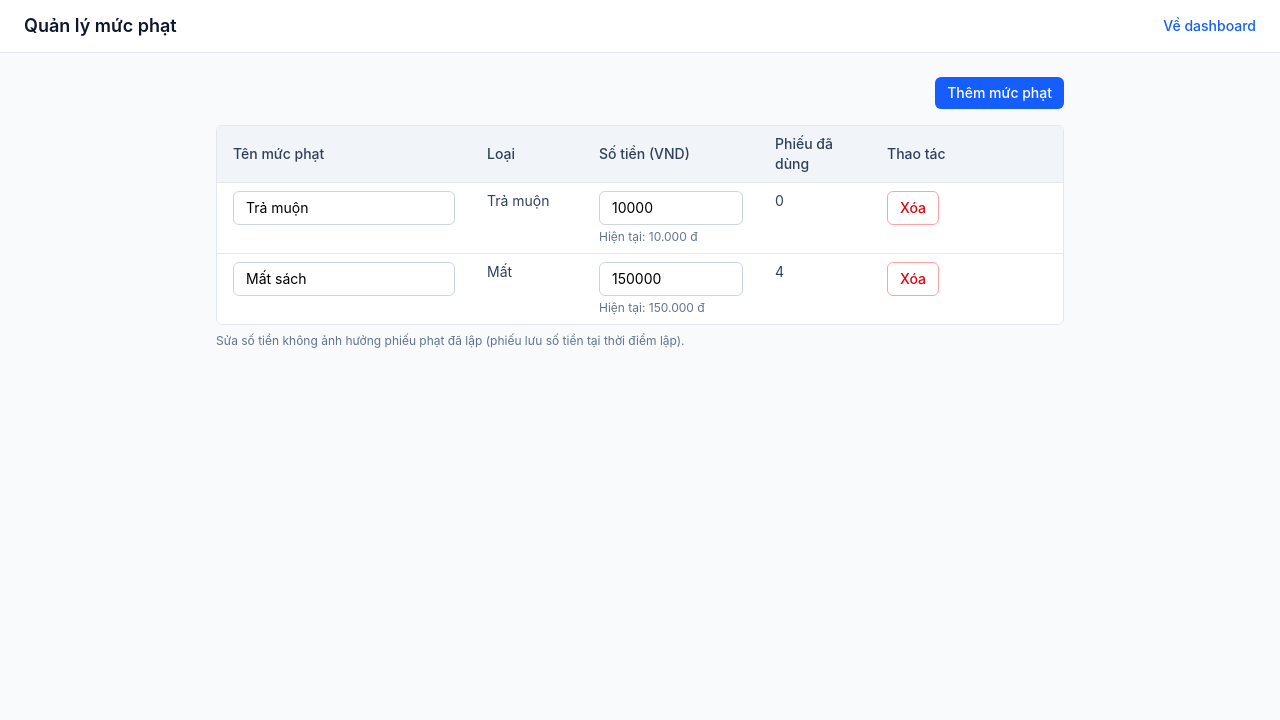
Test: FineTiersPage (2.5.1) › thêm: thiếu dữ liệu báo lỗi từng ô, không gọi API
Step 1. Click the button "Thêm mức phạt" → (1000, 93), box [935,77,1064,109]
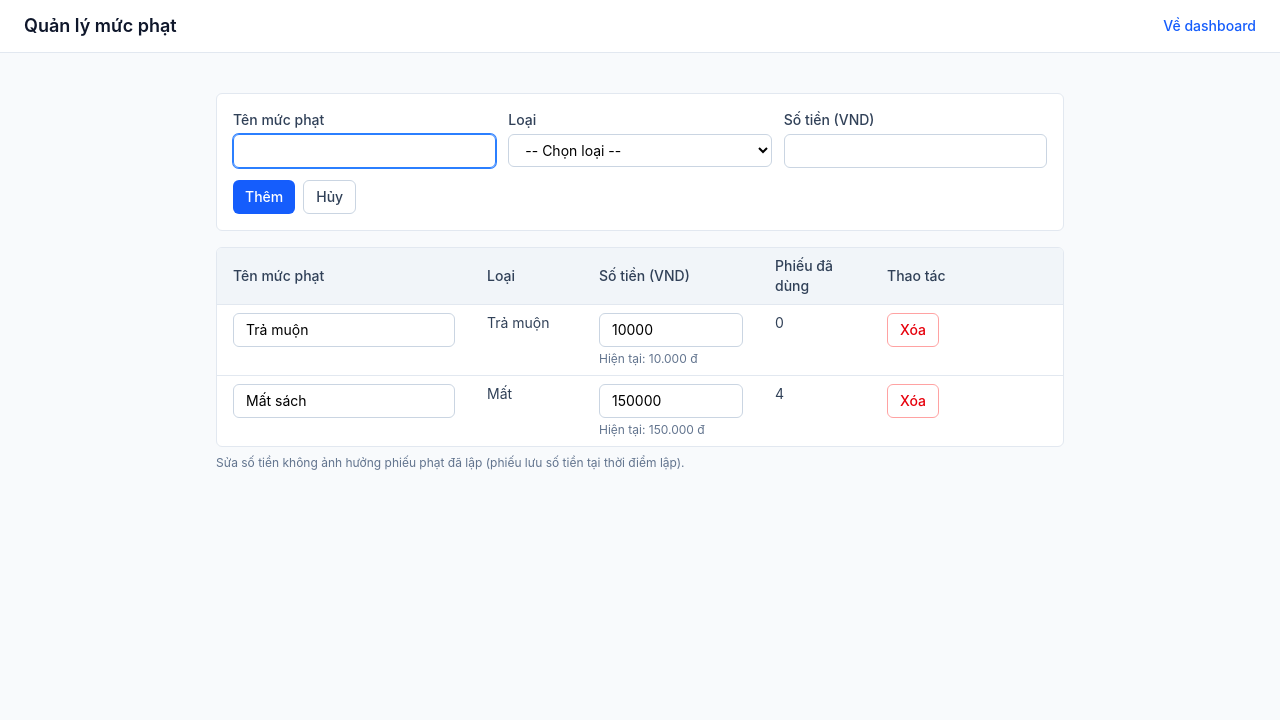
Step 2. Type "12.5" into the field labelled "Số tiền (VND)" → (915, 151), box [784,134,1047,168]
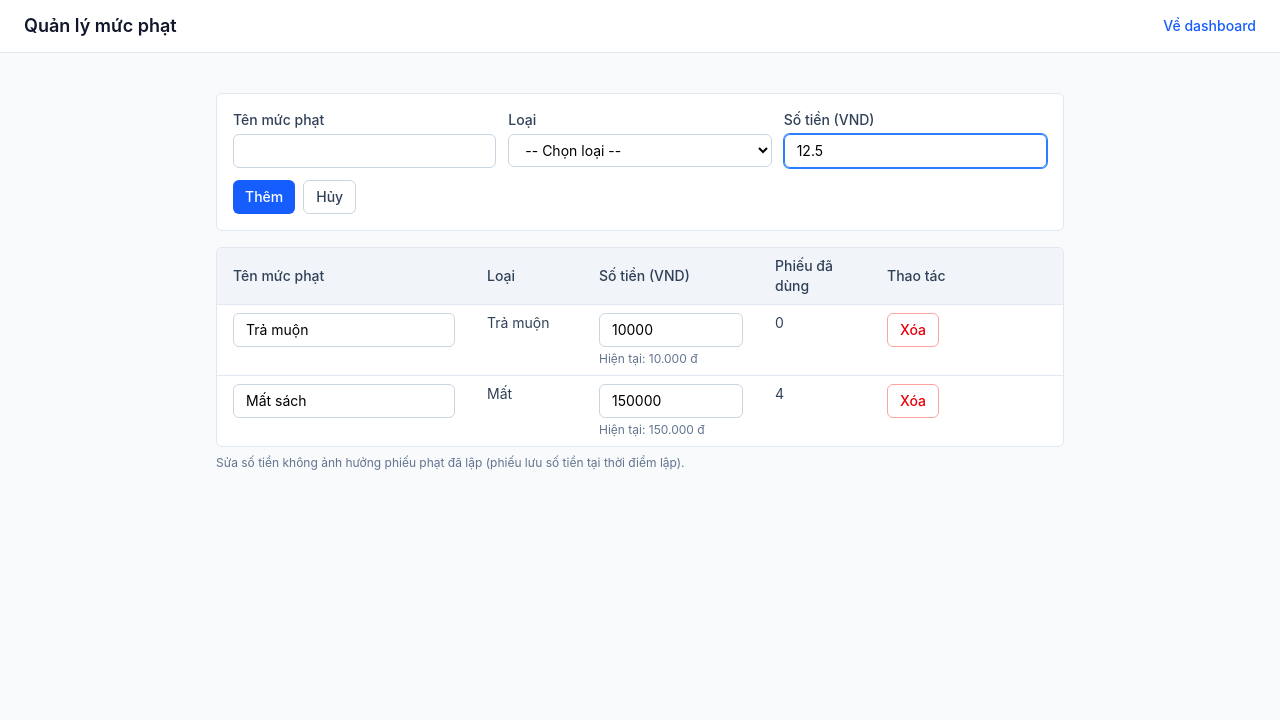
Step 3. Click the button "Thêm" → (264, 197), box [233,180,295,214]
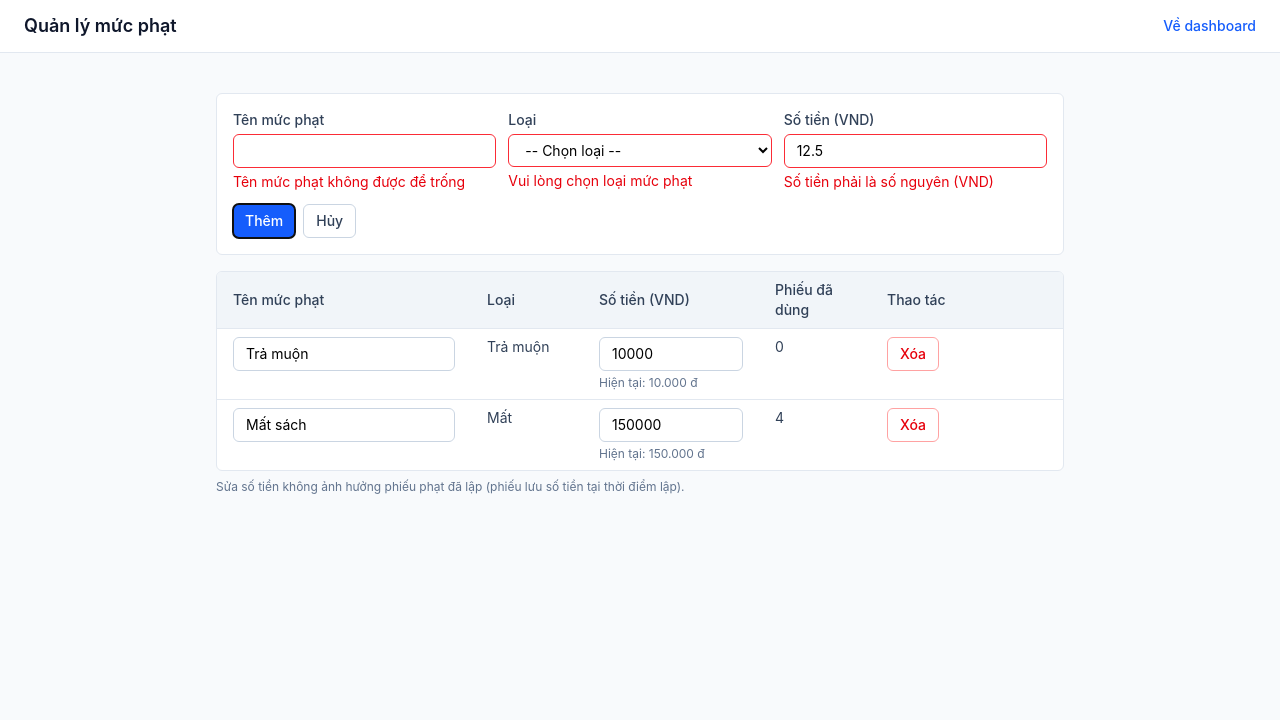
Result: the text "Tên mức phạt không được để trống" is shown at [233,172,496,192]
Result: the text "Vui lòng chọn loại mức phạt" is shown at [508,172,692,189]
Result: the text "Số tiền phải là số nguyên (VND)" is shown at [784,173,994,190]
